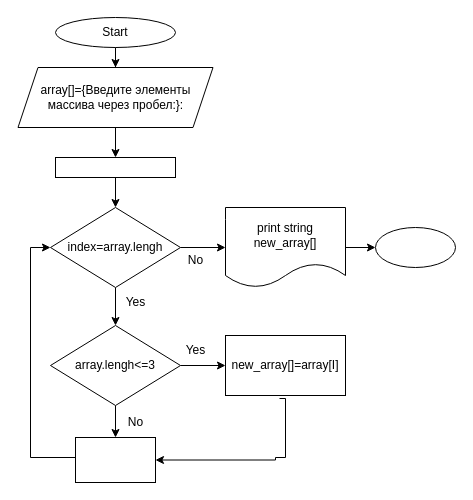
Image size: 473x500. Some labels were removed from this diagram. The centre of each missing label's shape, as x and y in pixels:
"End" belongs at pixel 415 247.
"index = 0" belongs at pixel 115 167.
"index++" belongs at pixel 115 459.
